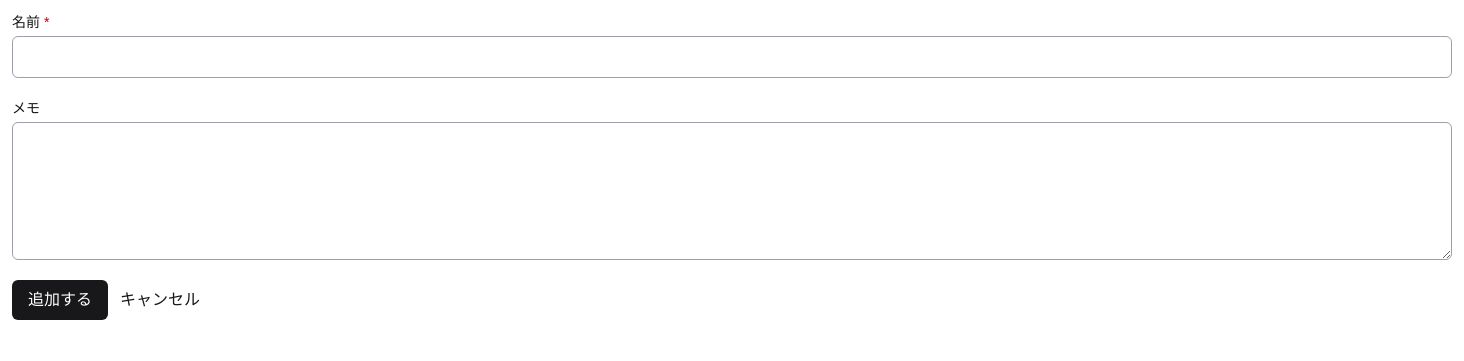
CustomerForm の画面の検証 › サーバーから返ったエラーも、項目ごとに出す
The width and height of the screenshot is (1464, 361).
Step 1. Type "山田商店" into the field labelled "名前 *" → (732, 57), box left=12, top=36, right=1452, bottom=78
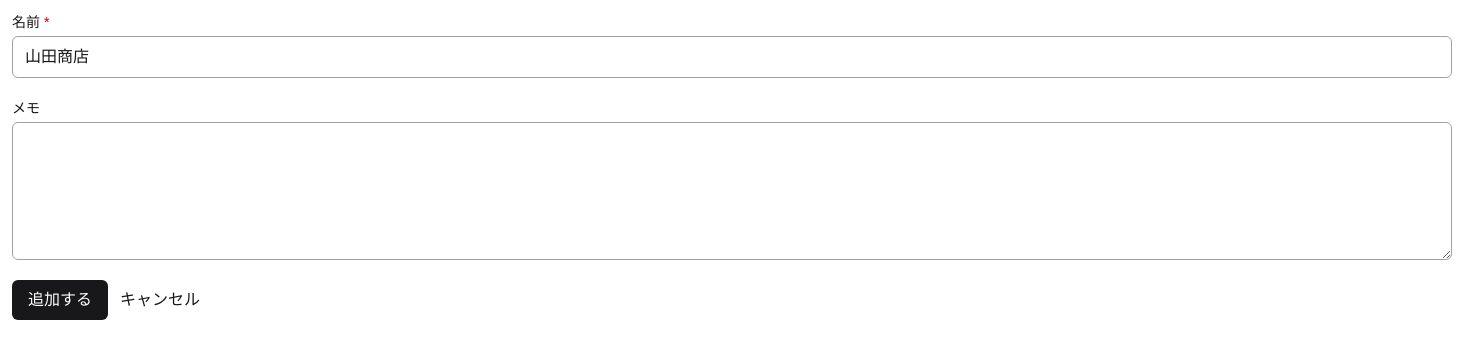
Step 2. Click the button "追加する" → (60, 300), box left=12, top=280, right=108, bottom=320
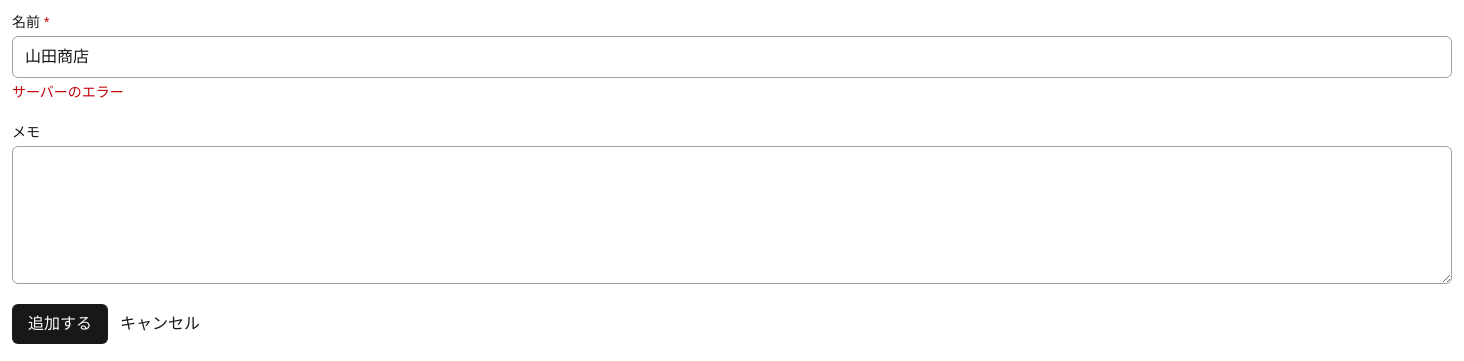
expect the text "サーバーのエラー" is shown: met, box left=12, top=84, right=124, bottom=100
